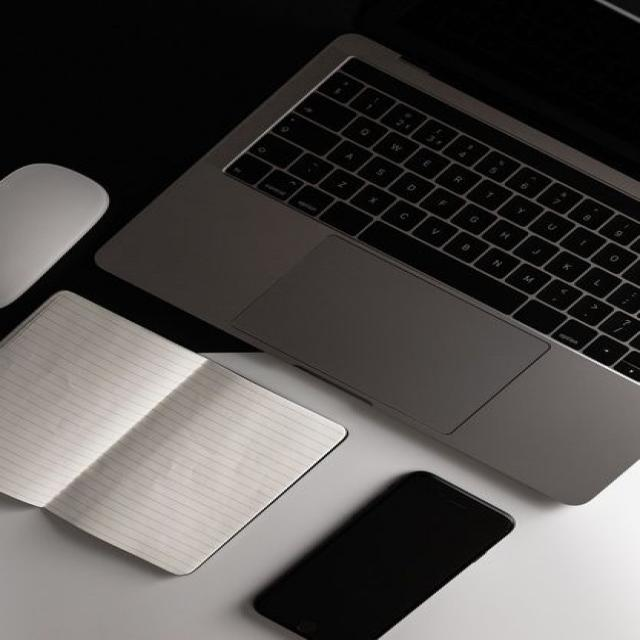book: (13, 305, 340, 547)
laptop: (107, 13, 640, 492)
mobile: (249, 473, 521, 640)
